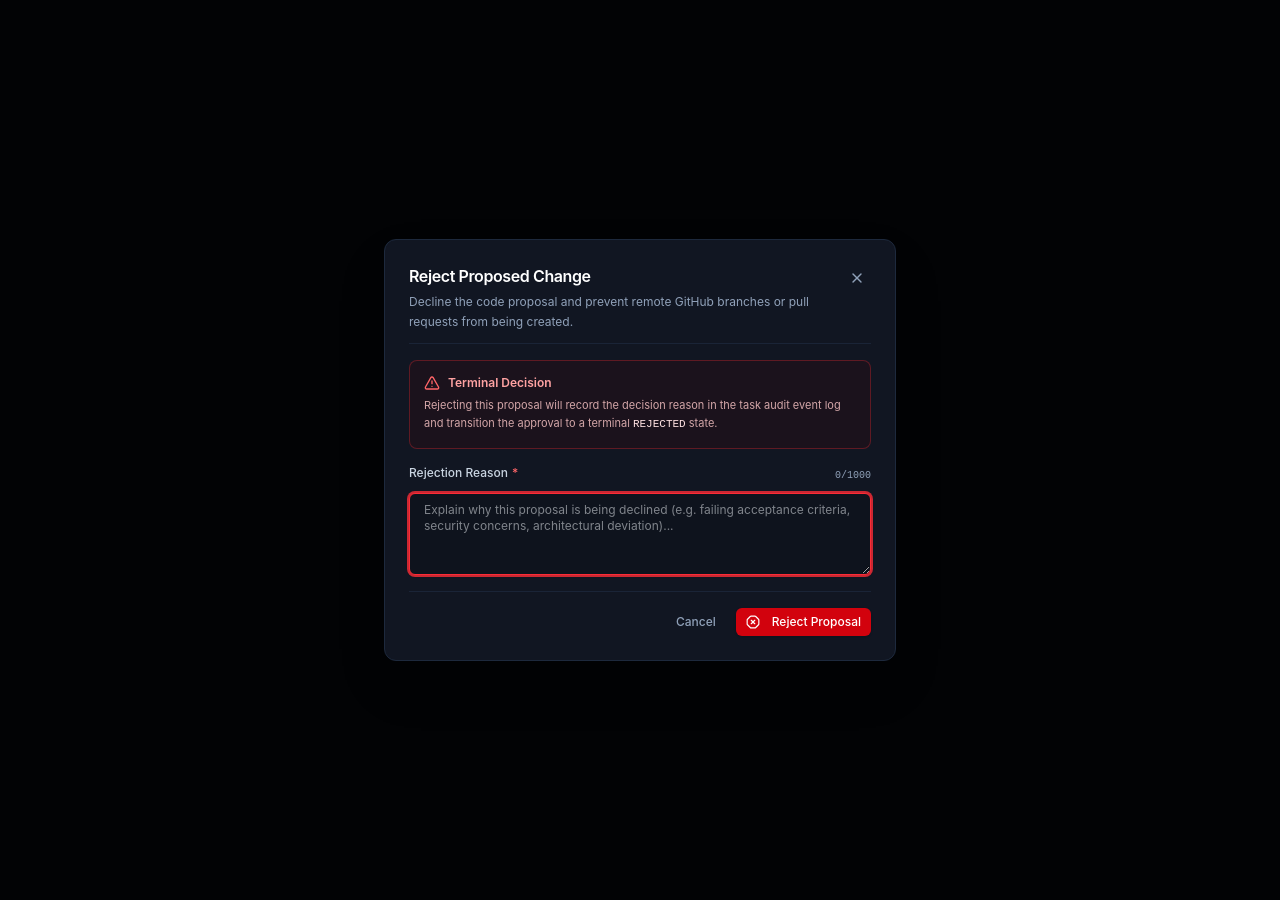
Test case: RejectDialog › validates that rejection reason is required before submitting
Click the button "Reject Proposal".
click(803, 622)  # box [736,608,871,636]
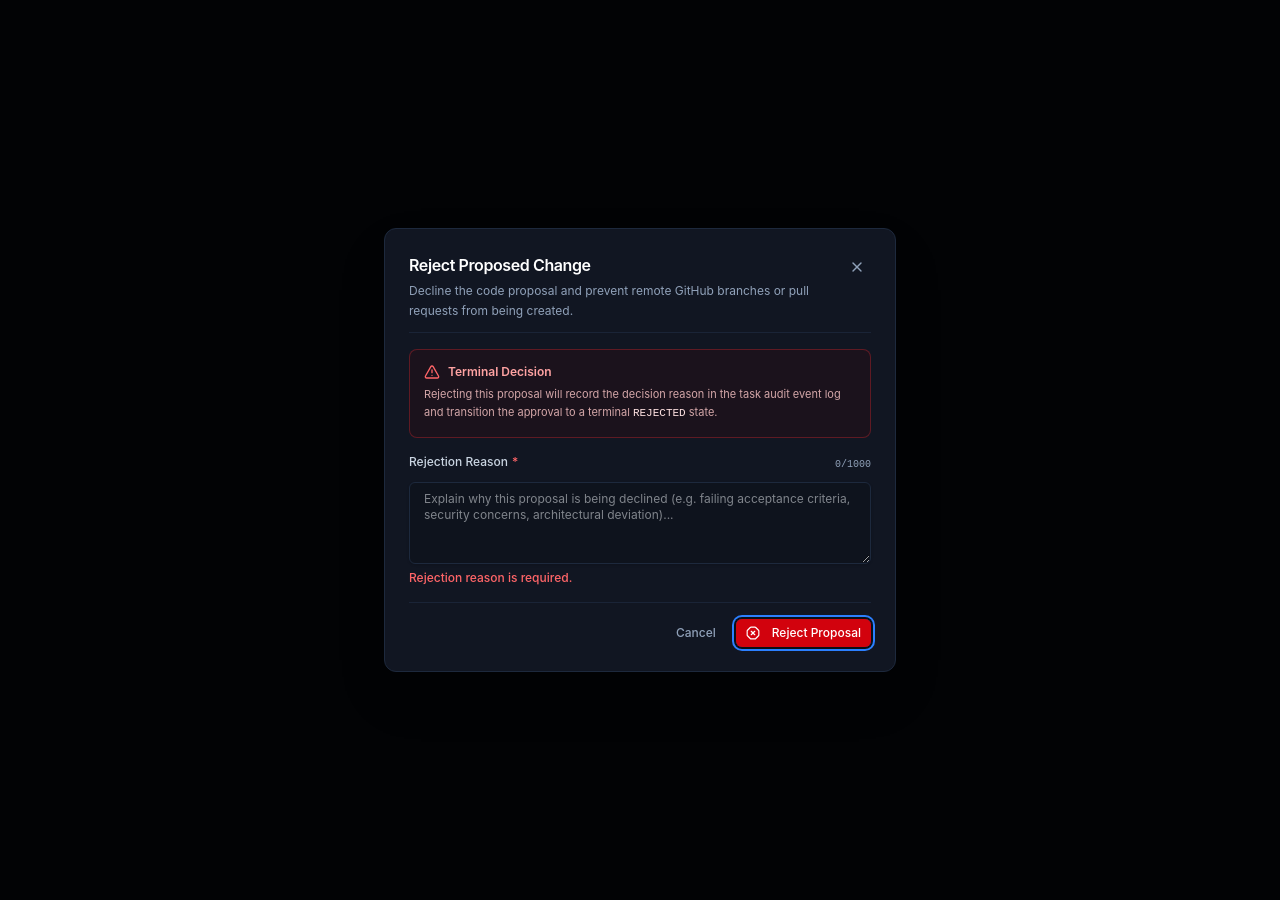
Expected: the text "Rejection reason is required." is shown, [409,570,572,585]
